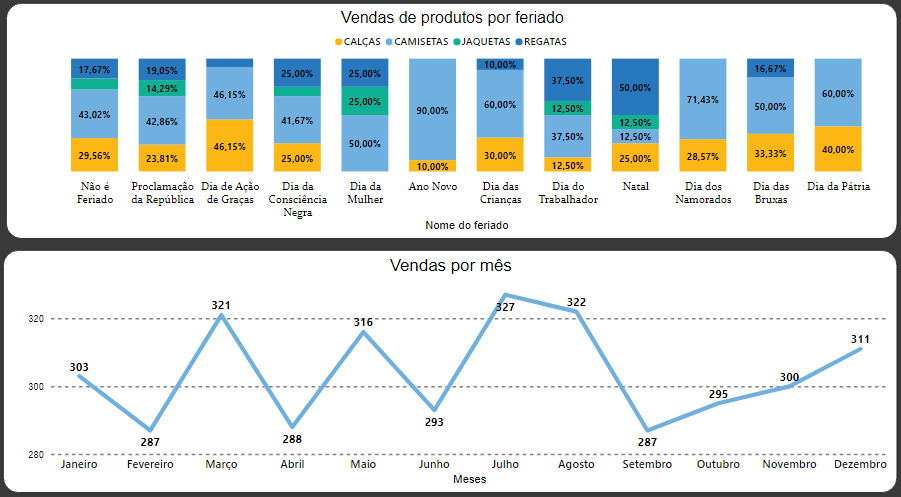

What the dashboard file says about the page in this screenshot:
{"tool":"powerbi","page":{"name":"Página 2","canvas":[1280,720],"ordinal":1},"visuals":[{"type":"lineChart","title":"Vendas por mês","fields":{"Category":["public dim_data.nm_mes"],"Y":["CountNonNull(public ft_vendas.dd_prod_vendido)"]},"box":[5.7,360.7,1269.6,345.1],"z":0},{"type":"hundredPercentStackedColumnChart","title":"Vendas de produtos por feriado","fields":{"Category":["public dim_data.nm_feriado"],"Y":["CountNonNull(public ft_vendas.dd_prod_vendido - Copiar)"],"Series":["public ft_vendas.dd_prod_vendido - Copiar"]},"box":[10,10,1265.7,335.3],"z":1000}]}

Visuals, with their boxes in screenshot pixels (x1, y1, x2, y2), scaled from the page's 1280x720 canvas onto the 901x497 screenshot:
"Vendas por mês" lineChart: (left=4, top=249, right=898, bottom=487)
"Vendas de produtos por feriado" hundredPercentStackedColumnChart: (left=7, top=7, right=898, bottom=238)
